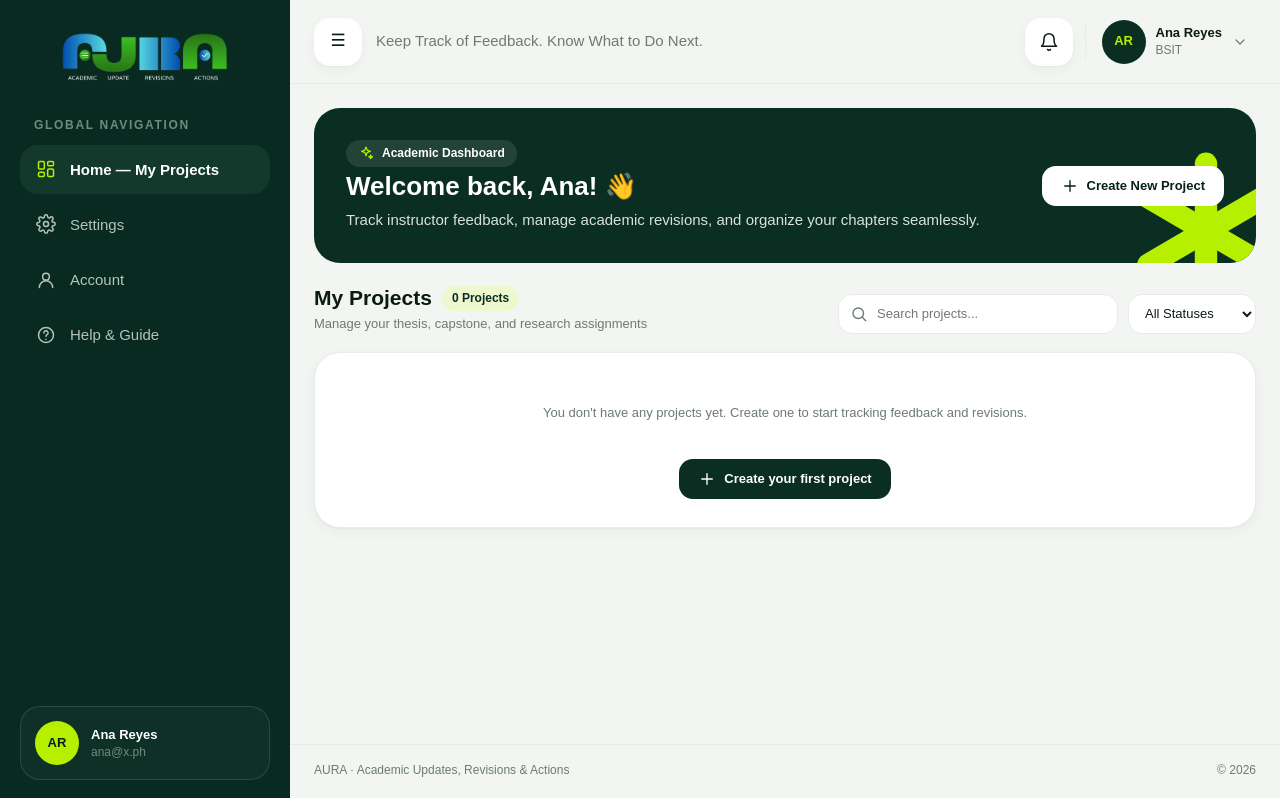
Test: server-backed dashboard › creates a project on the server and lists it
Click the button "Create New Project". click: coordinates (1133, 186)
box: x1=1042 y1=166 x2=1224 y2=206
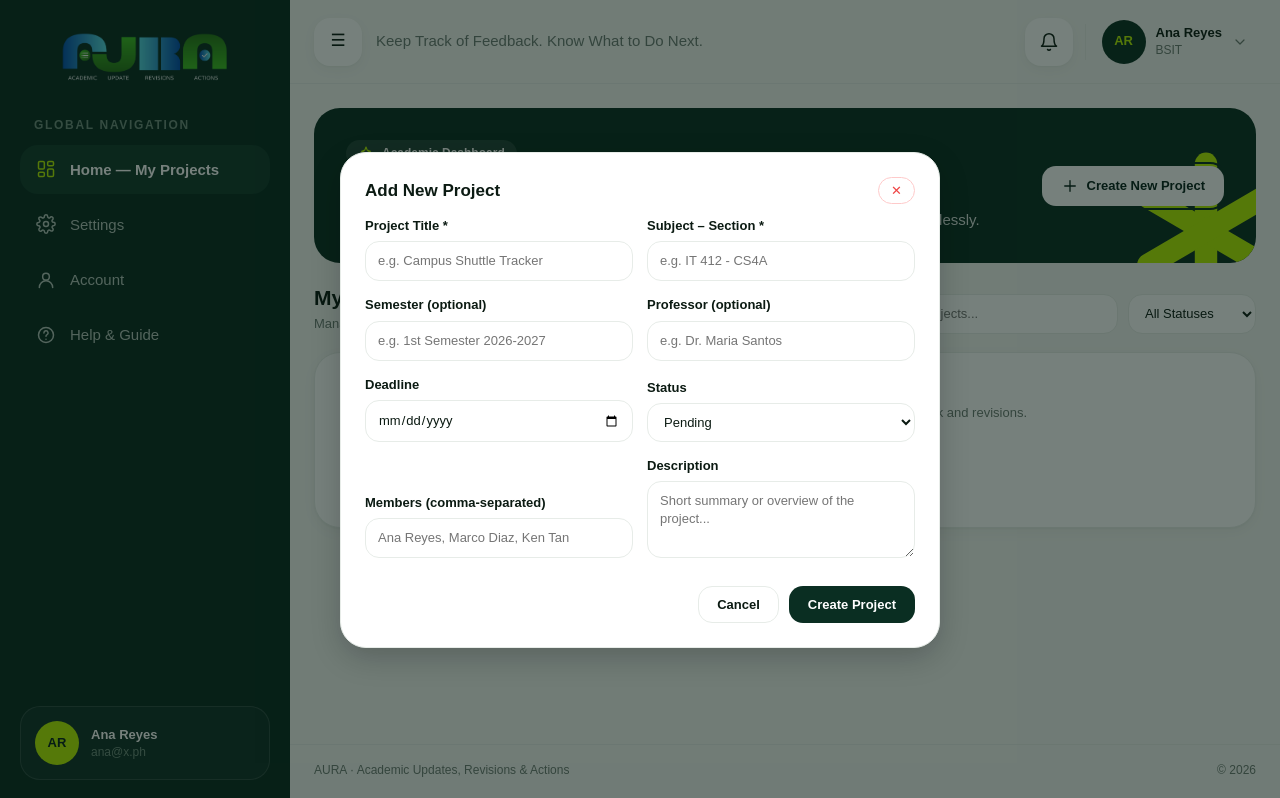
Type "Shuttle Tracker" into the field with placeholder "e.g. Campus Shuttle Tracker". click: coordinates (499, 261)
box: x1=365 y1=241 x2=633 y2=282
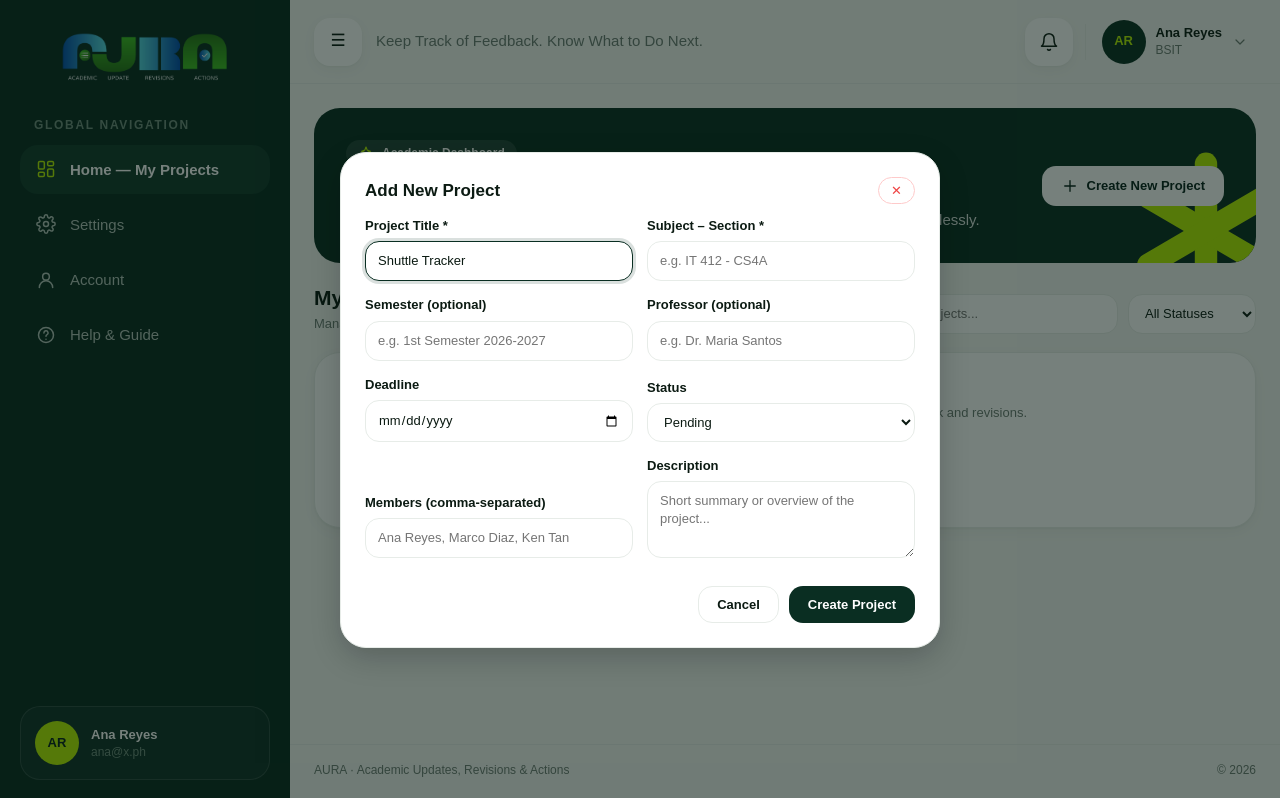
Type "IT 412 - CS4A" into the field with placeholder "e.g. IT 412 - CS4A". click: coordinates (781, 261)
box: x1=647 y1=241 x2=915 y2=282
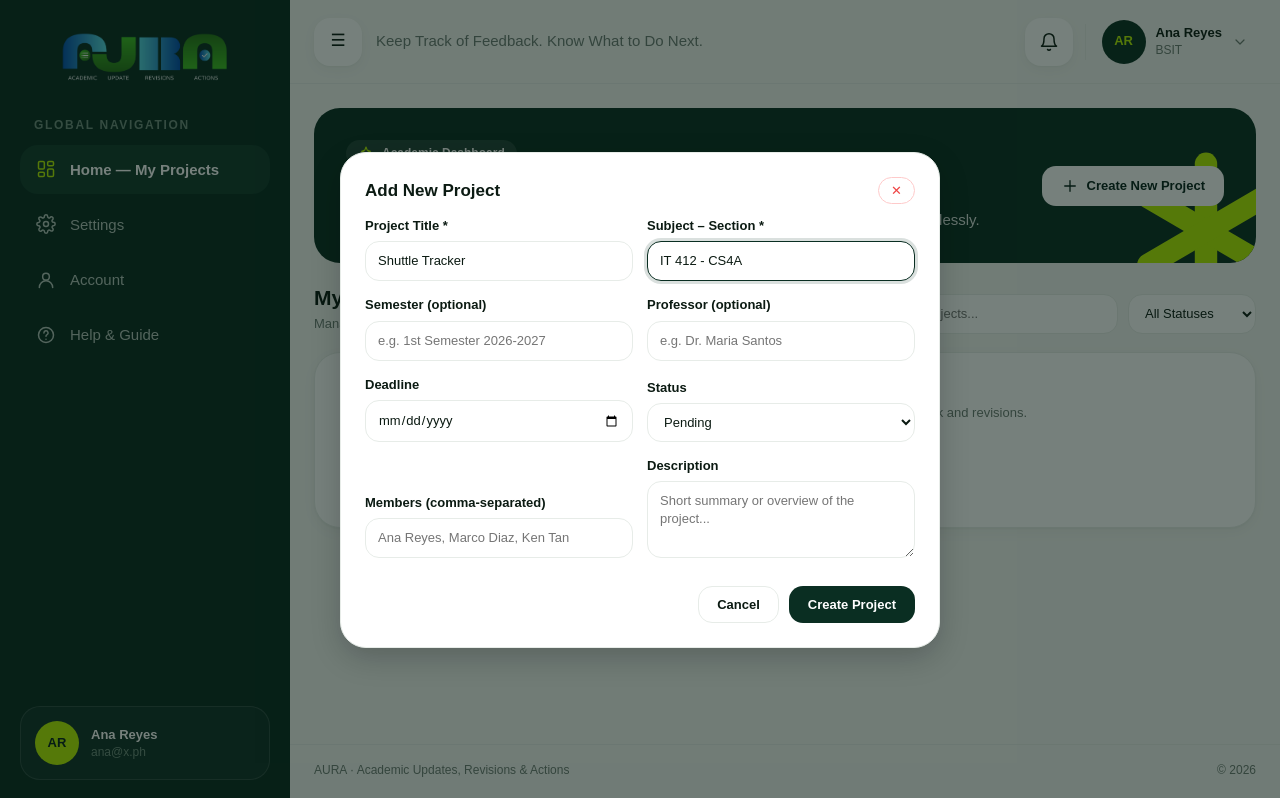
Click the button "Create Project". click: coordinates (852, 605)
box: x1=789 y1=586 x2=915 y2=623
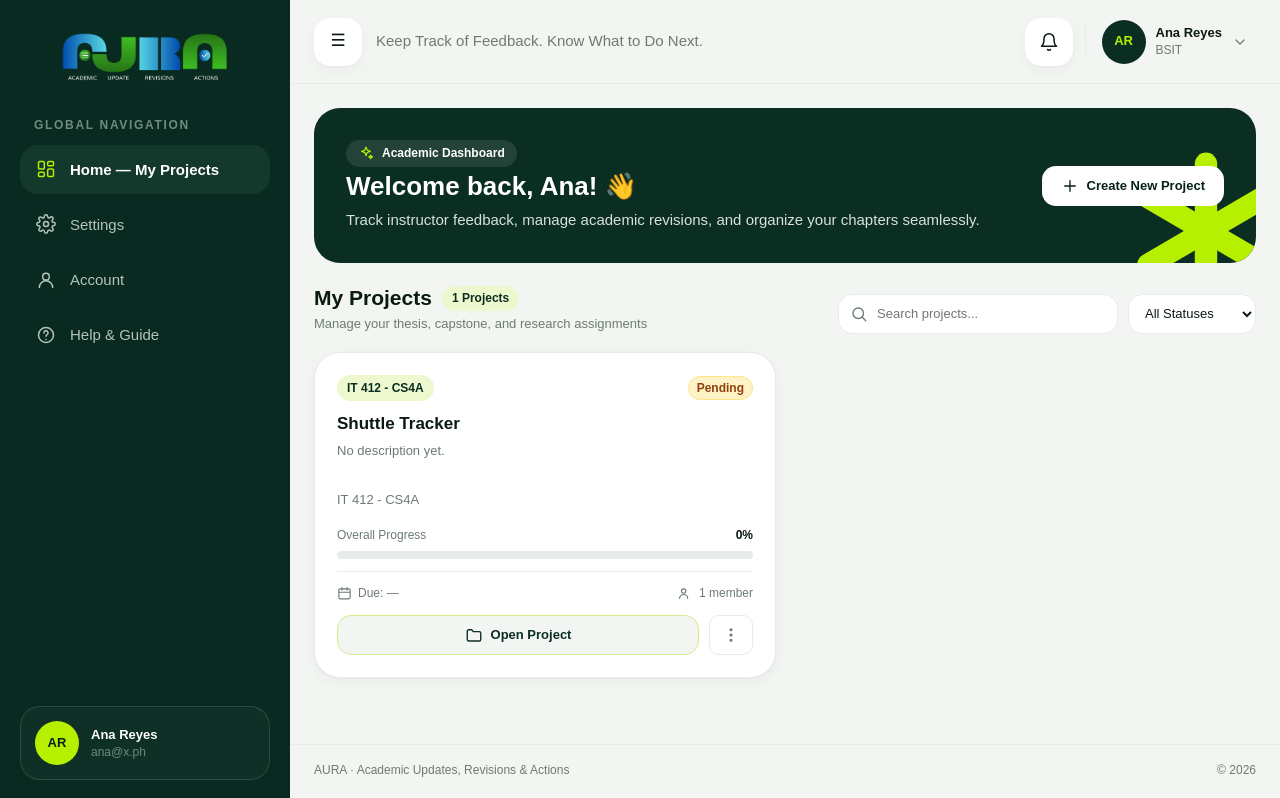
Click the heading "Shuttle Tracker". click: coordinates (398, 424)
box: x1=337 y1=414 x2=460 y2=433
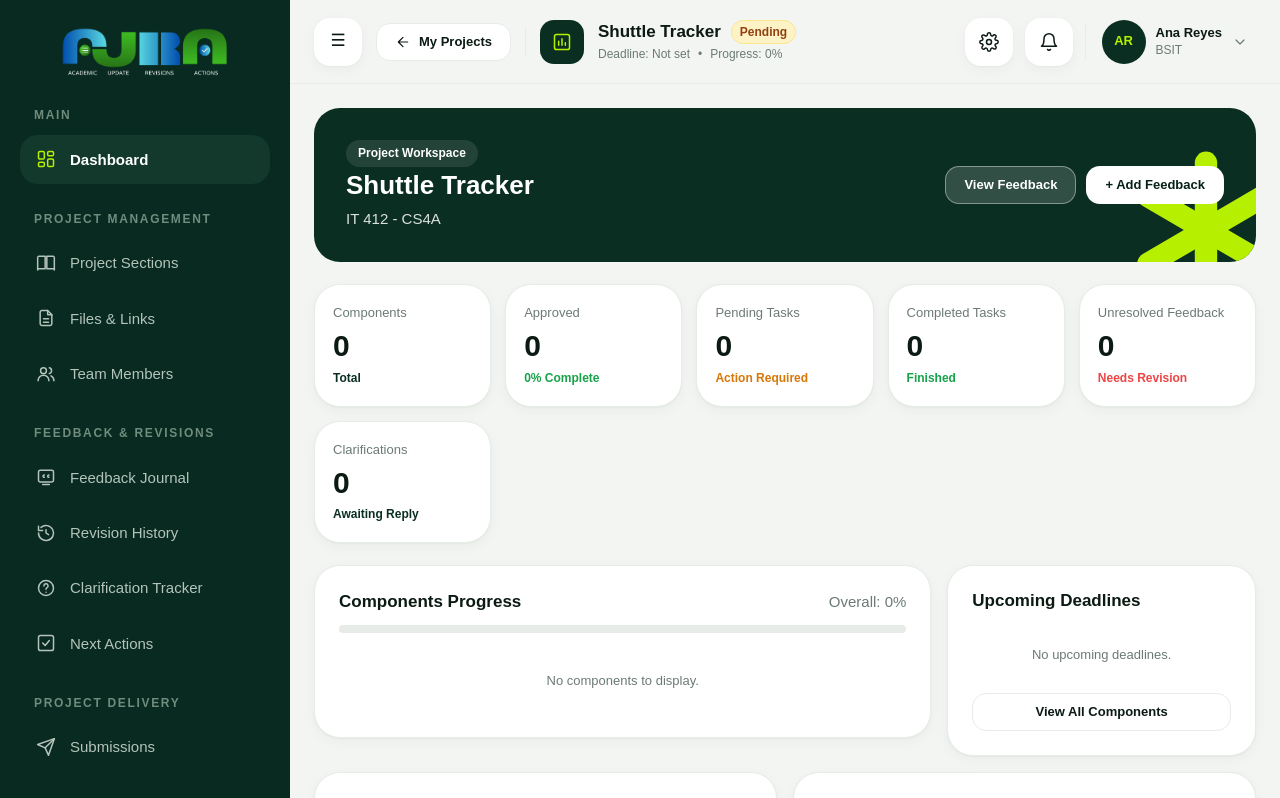
Expected: the button "My Projects" is shown, x1=376 y1=22 x2=511 y2=60
Expected: the 1st heading "Shuttle Tracker" is shown, x1=598 y1=22 x2=721 y2=43
